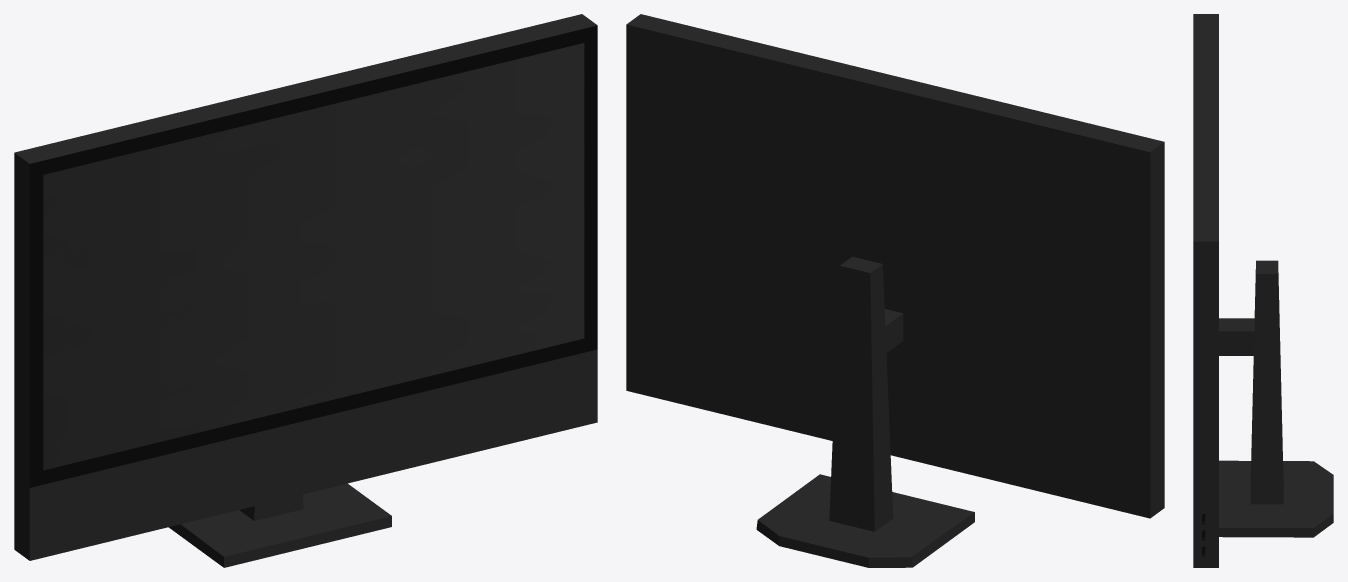
File: MoniterV1.fbx
The picture shows the model from 3 angles, left to right: view 1: azimuth 30°, elevation 25°; view 2: azimuth 150°, elevation 25°; view 3: azimuth 270°, elevation 25°; orthographic projection. The views are drawn at different scales.
Visible parts, largest first — view 1: MoniterV1; view 2: MoniterV1; view 3: MoniterV1.
Part boxes in pixels (left/top/right/bottom): MoniterV1: left=14, top=14, right=597, bottom=567; MoniterV1: left=626, top=14, right=1164, bottom=567; MoniterV1: left=1193, top=14, right=1333, bottom=567.
Size of the model in its own units: 60 by 46.14 by 15.61.
